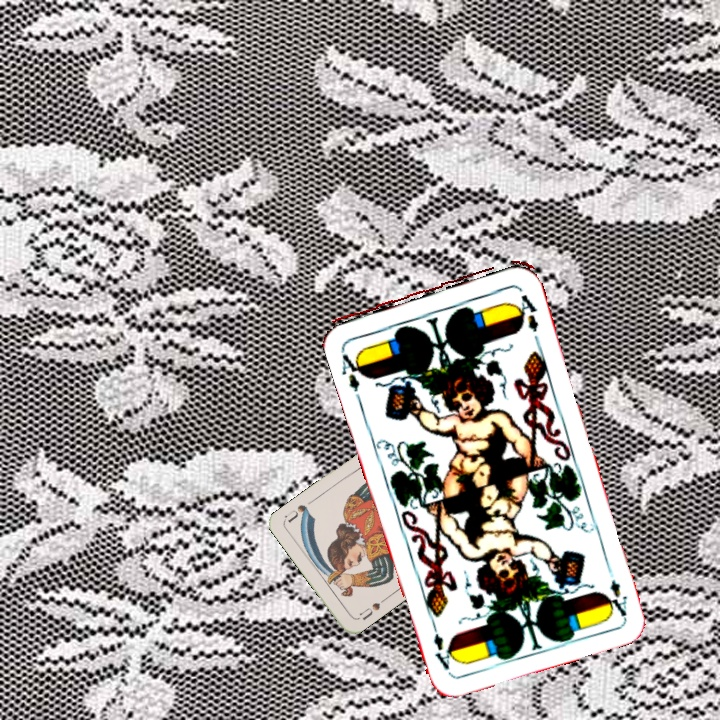EA: (336, 338, 368, 399), (602, 561, 630, 619)
SU: (355, 594, 389, 623)
